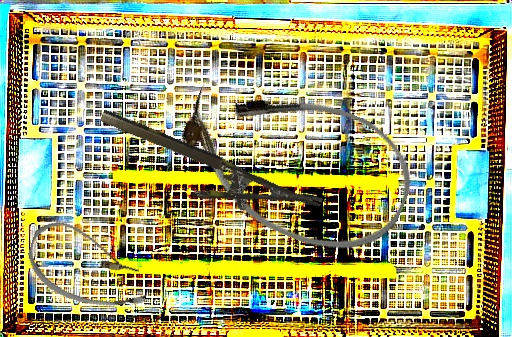Cannula: (161, 56, 429, 273), (19, 215, 160, 320)
Needle Holder: (87, 106, 323, 244)
